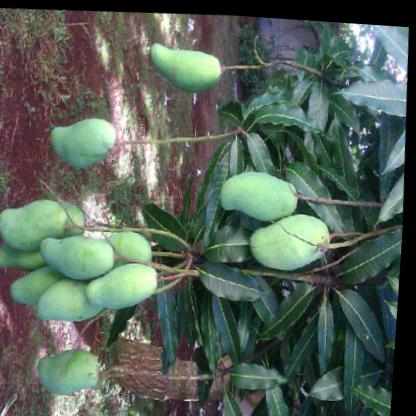--: (136, 21, 235, 106), (244, 203, 345, 286), (213, 146, 315, 224), (47, 92, 130, 182), (82, 244, 176, 317), (0, 180, 76, 247), (38, 223, 122, 280), (40, 348, 112, 398)
